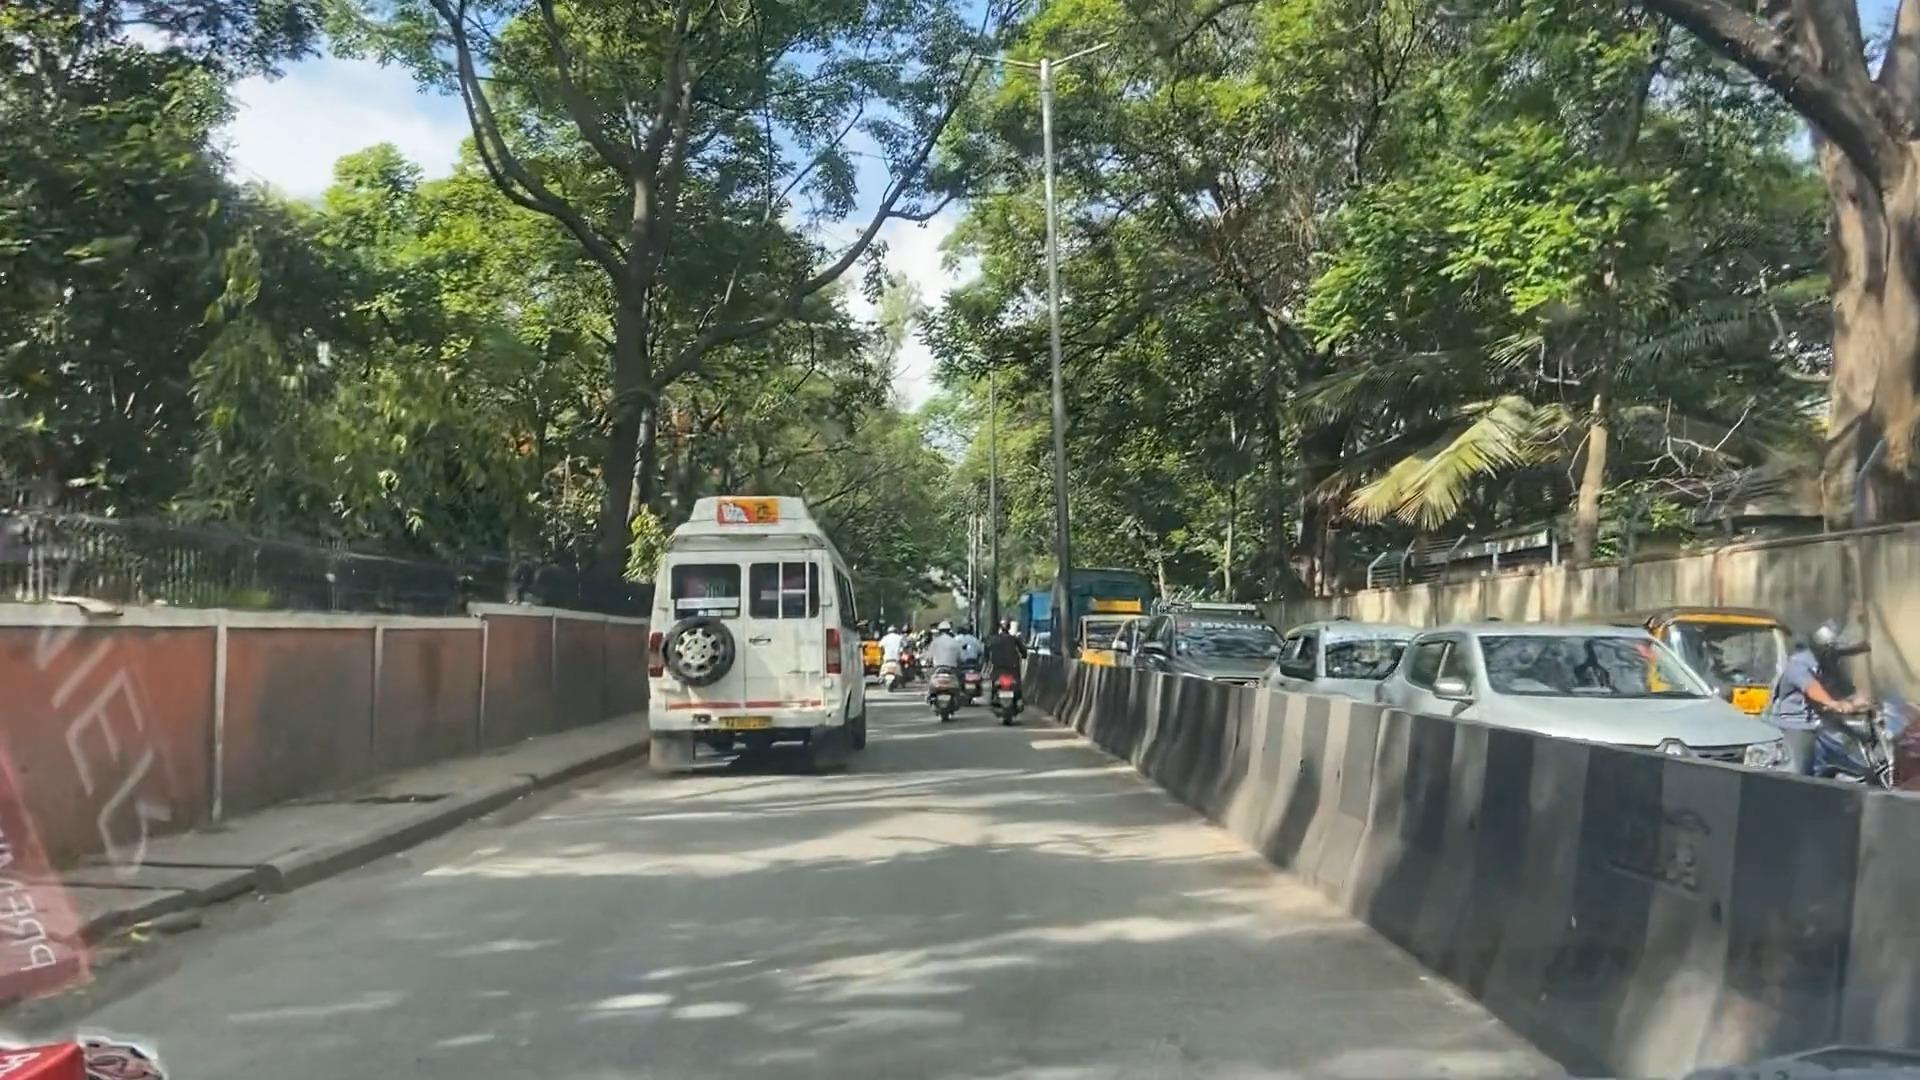HMV: (653, 493, 857, 741)
LMV: (989, 620, 1040, 738)
